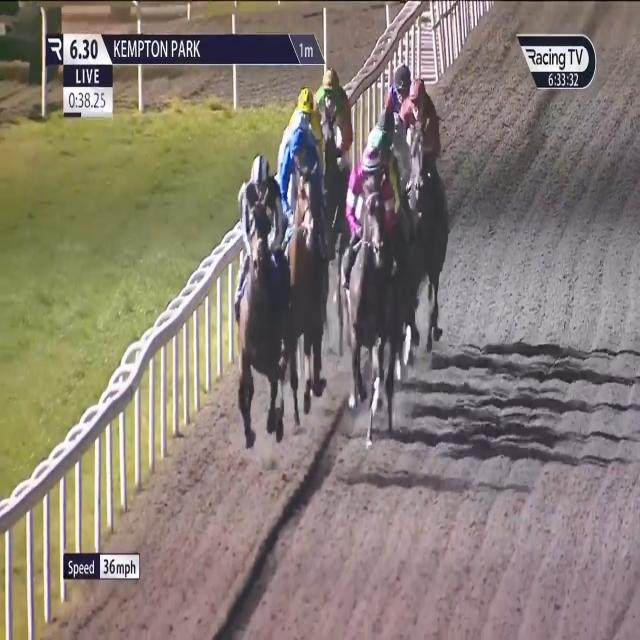horses-racing: (239, 154, 286, 435), (352, 144, 396, 425), (284, 127, 323, 376), (316, 64, 352, 262), (411, 71, 436, 329), (376, 104, 417, 202), (363, 127, 403, 206), (292, 88, 322, 141), (277, 106, 310, 146), (390, 63, 410, 115)
